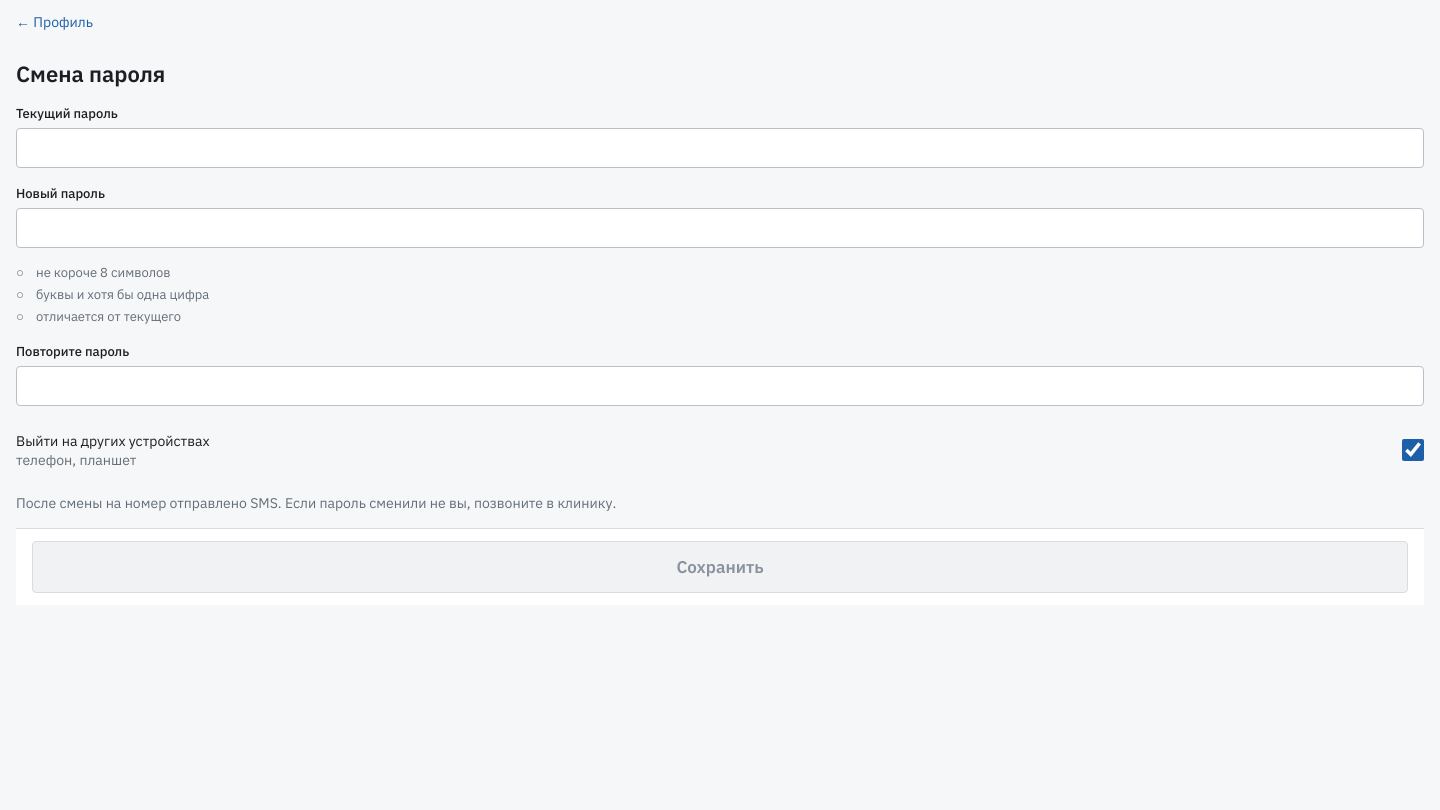
PatientPassword › меняет пароль и оставляет сеансы на других устройствах
Type "demo1234" into the password field labelled "Текущий пароль".
click(720, 148); type("demo1234")  # box [16, 128, 1424, 168]
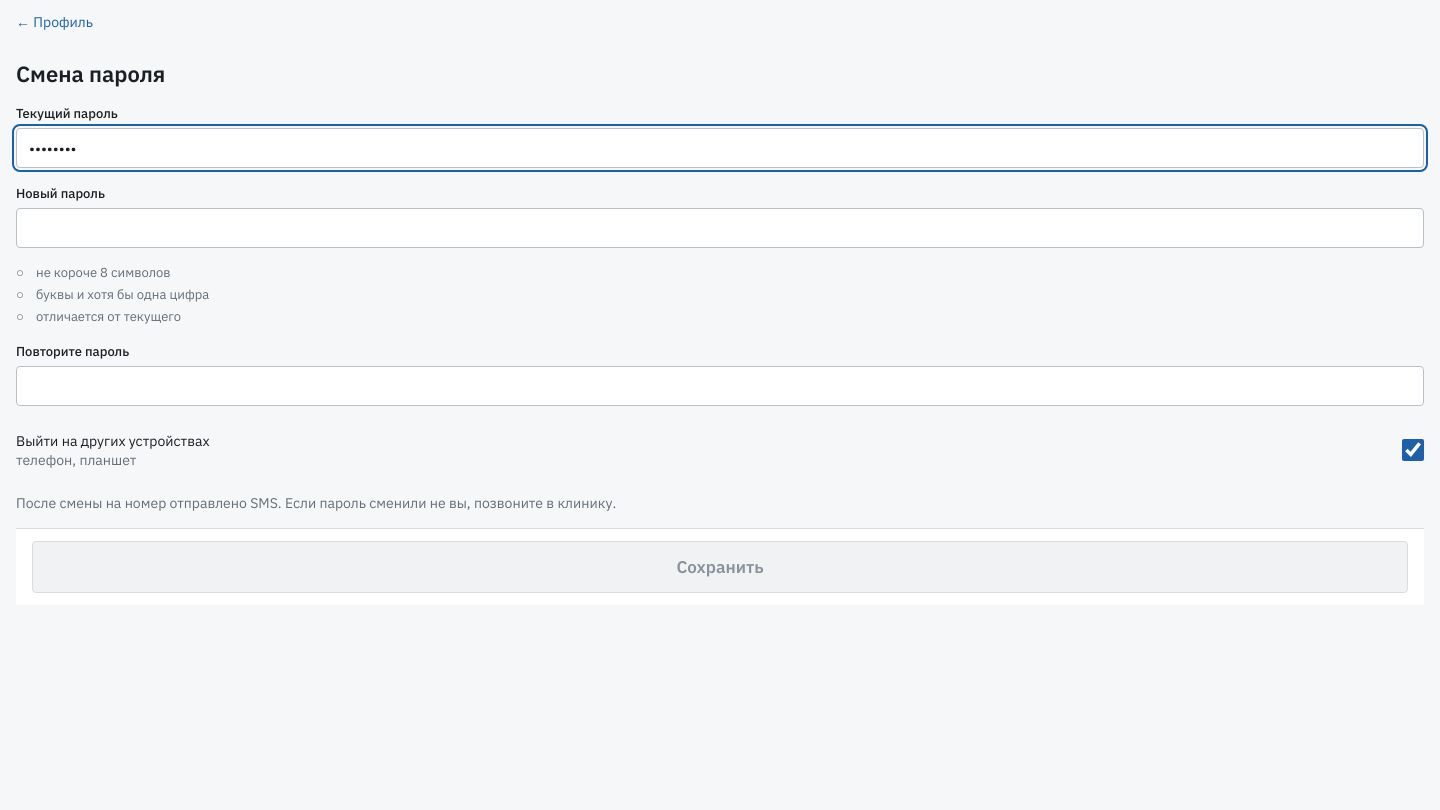
Type "Newpass123" into the password field labelled "Новый пароль".
click(720, 228); type("Newpass123")  # box [16, 208, 1424, 248]
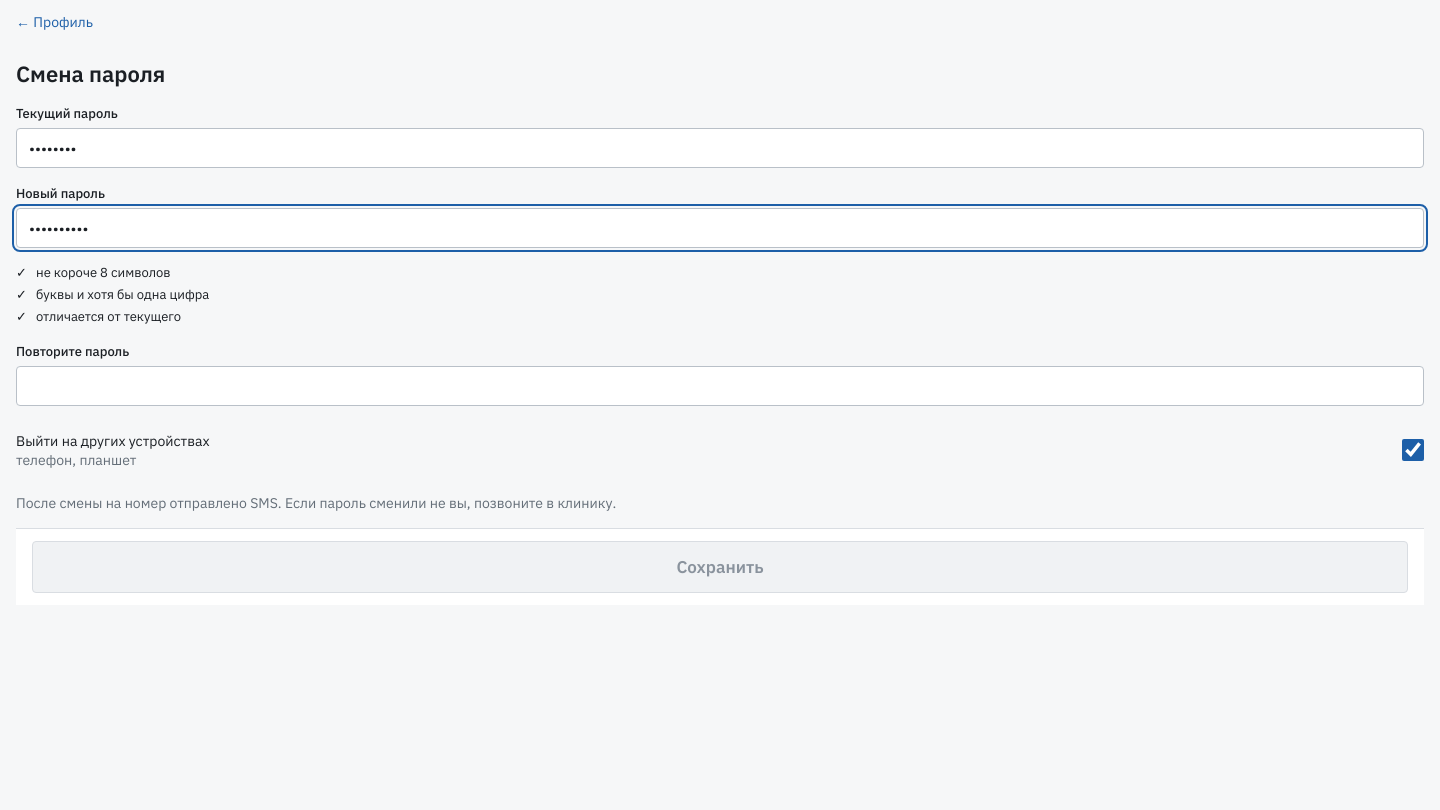
Type "Newpass123" into the password field labelled "Повторите пароль".
click(720, 386); type("Newpass123")  # box [16, 366, 1424, 406]
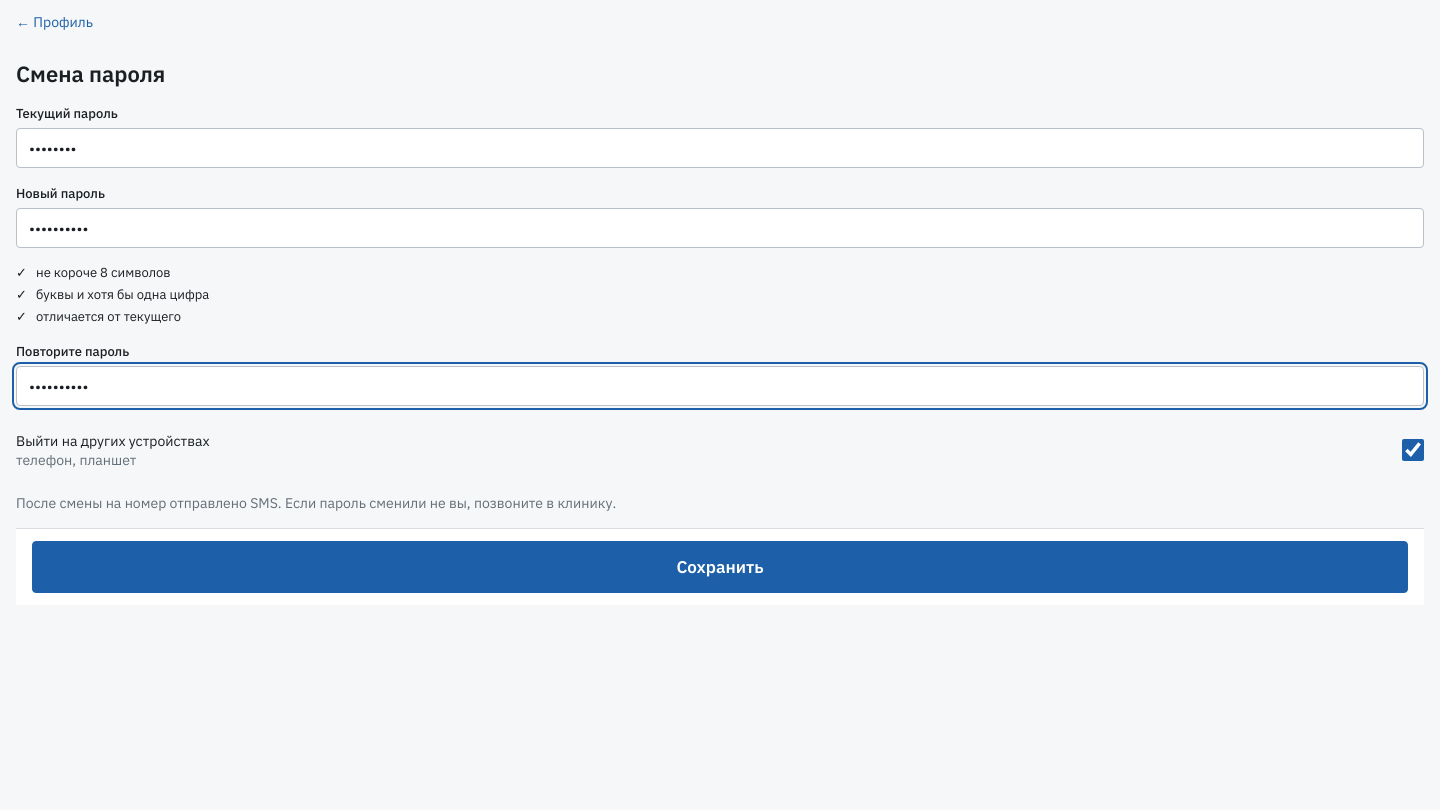
Click the checkbox labelled "Выйти на других устройствах телефон, планшет".
click(1413, 450)  # box [1402, 439, 1424, 461]
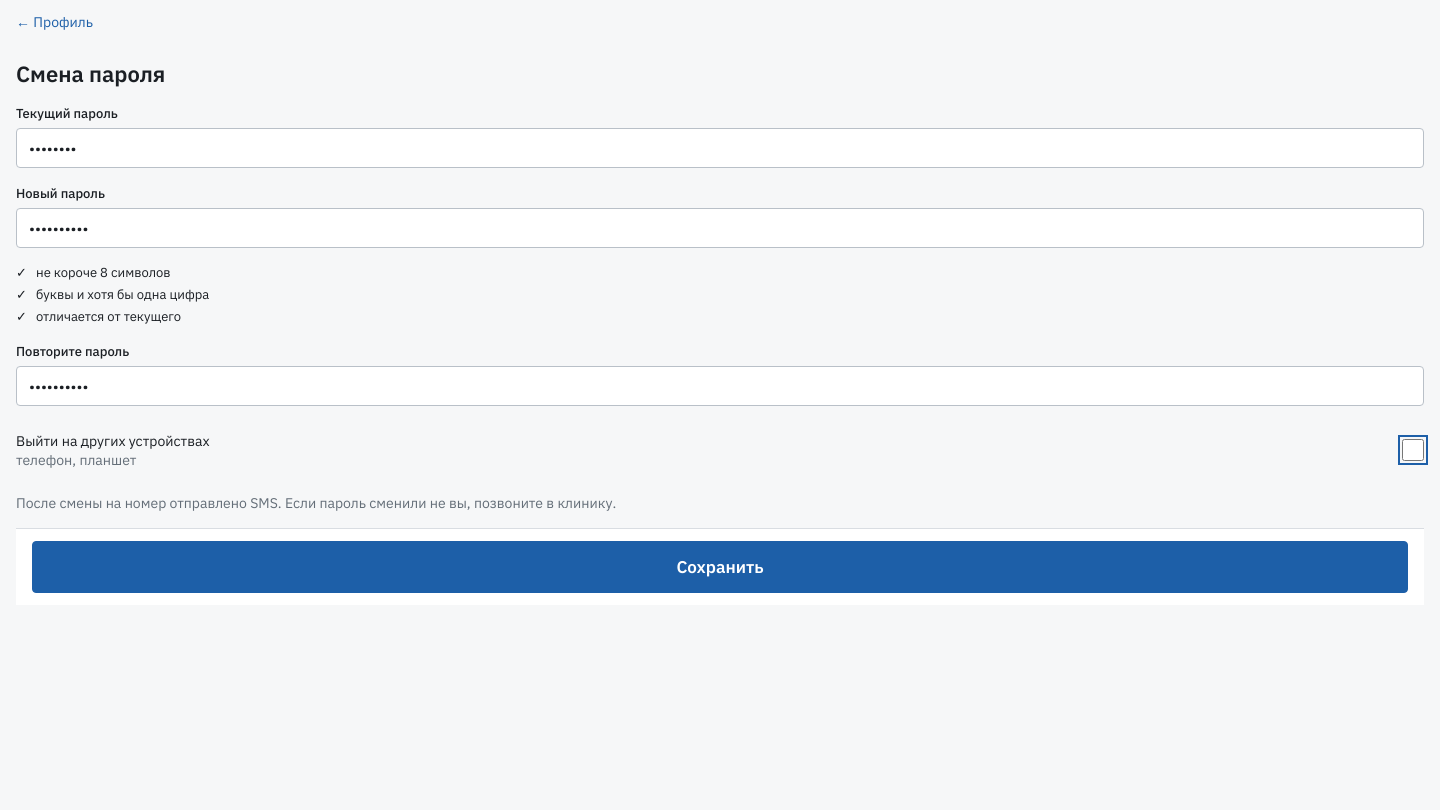
Click the button "Сохранить".
click(720, 567)  # box [32, 541, 1408, 593]
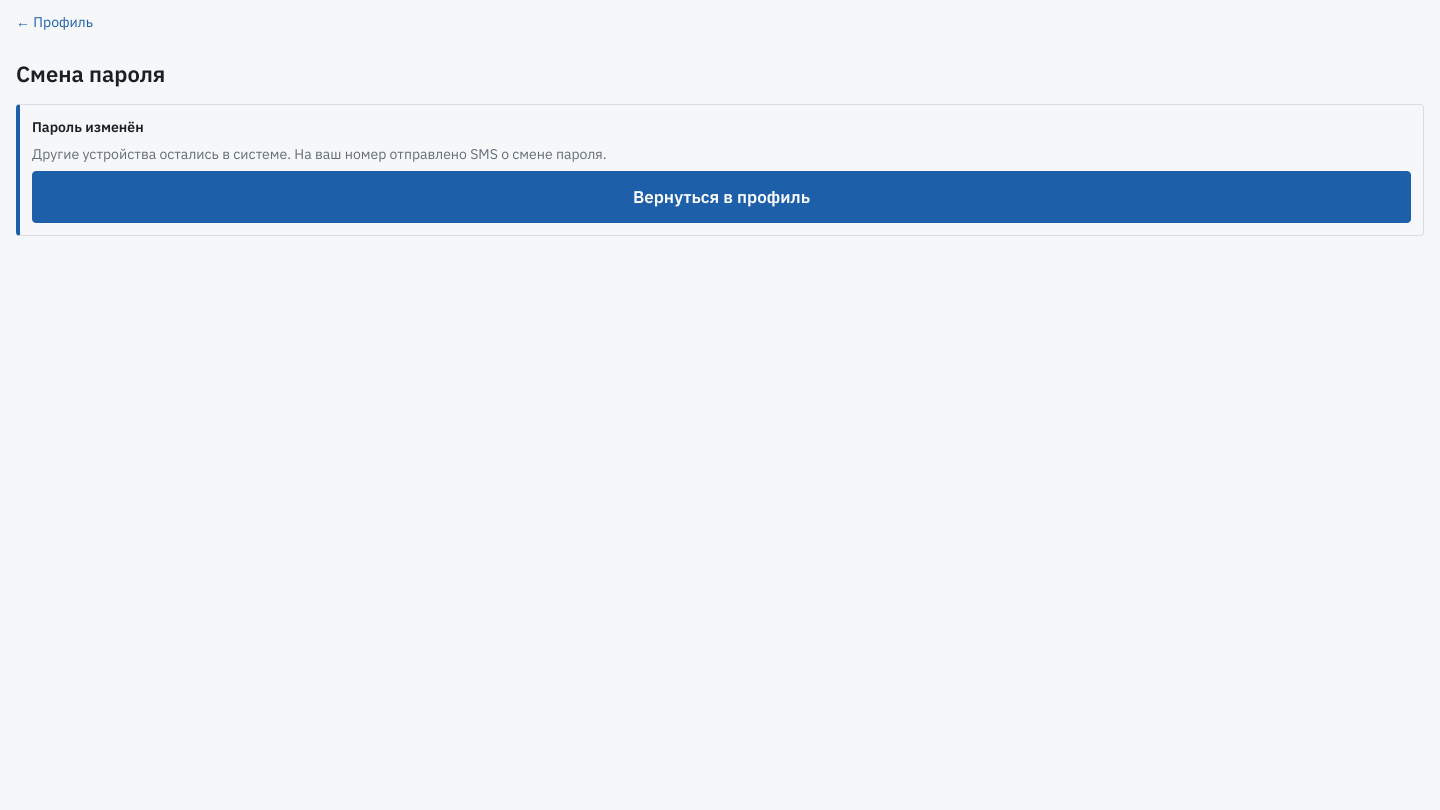
expect the text "Пароль изменён" is shown: met, box [32, 118, 144, 136]
expect the text "Другие устройства остались в системе" is shown: met, box [32, 145, 291, 163]
